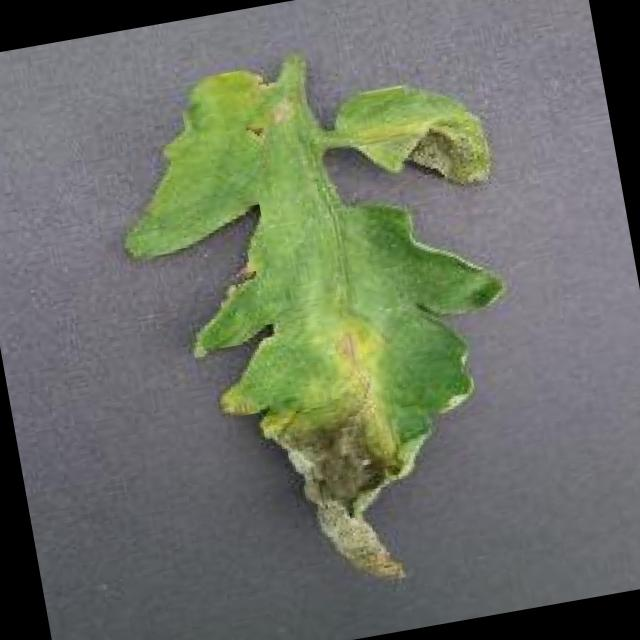Tomato_Late_Blight: (184, 275, 465, 622), (343, 66, 498, 215)
